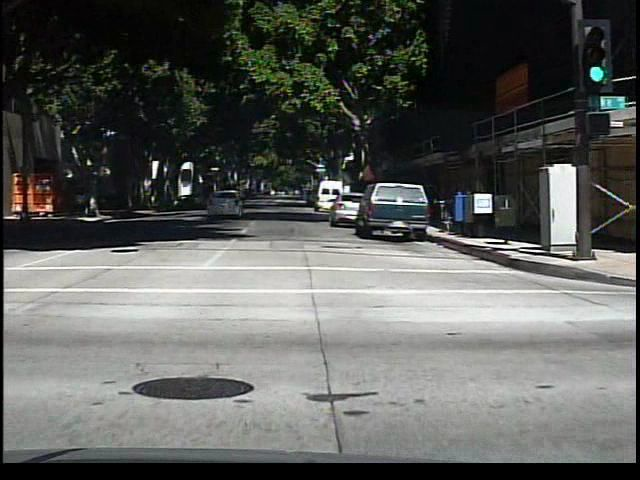person: (74, 183, 90, 218)
